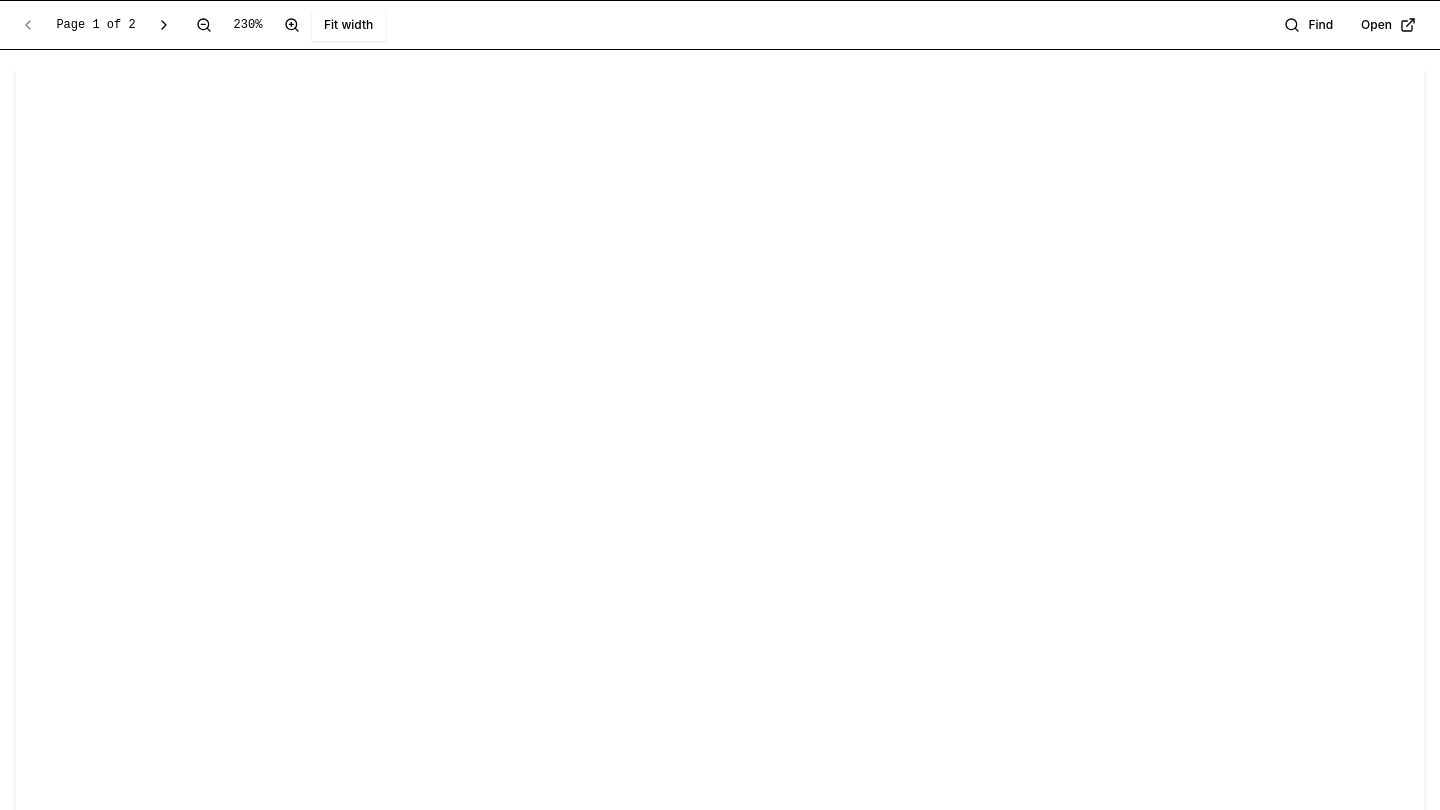
Test: finding text › counts every hit in the document and moves to the page carrying it
Expected: the text "Page 1 of 2" is shown, [56,18,136,32]
Click the button "Find" at (1309, 25), box [1272,9,1345,41]
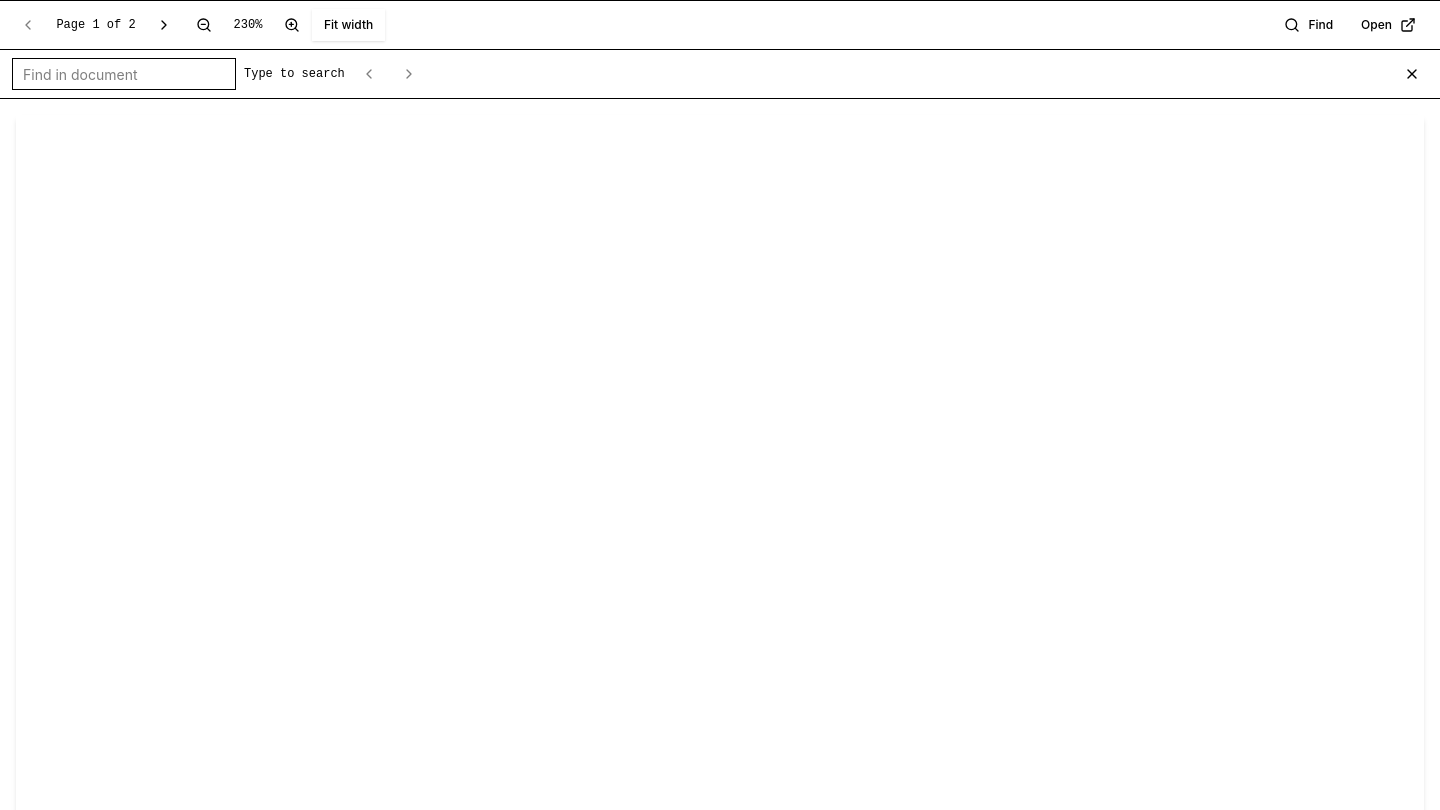
Type "consumed" into the search field at (124, 74), box [12,58,236,90]
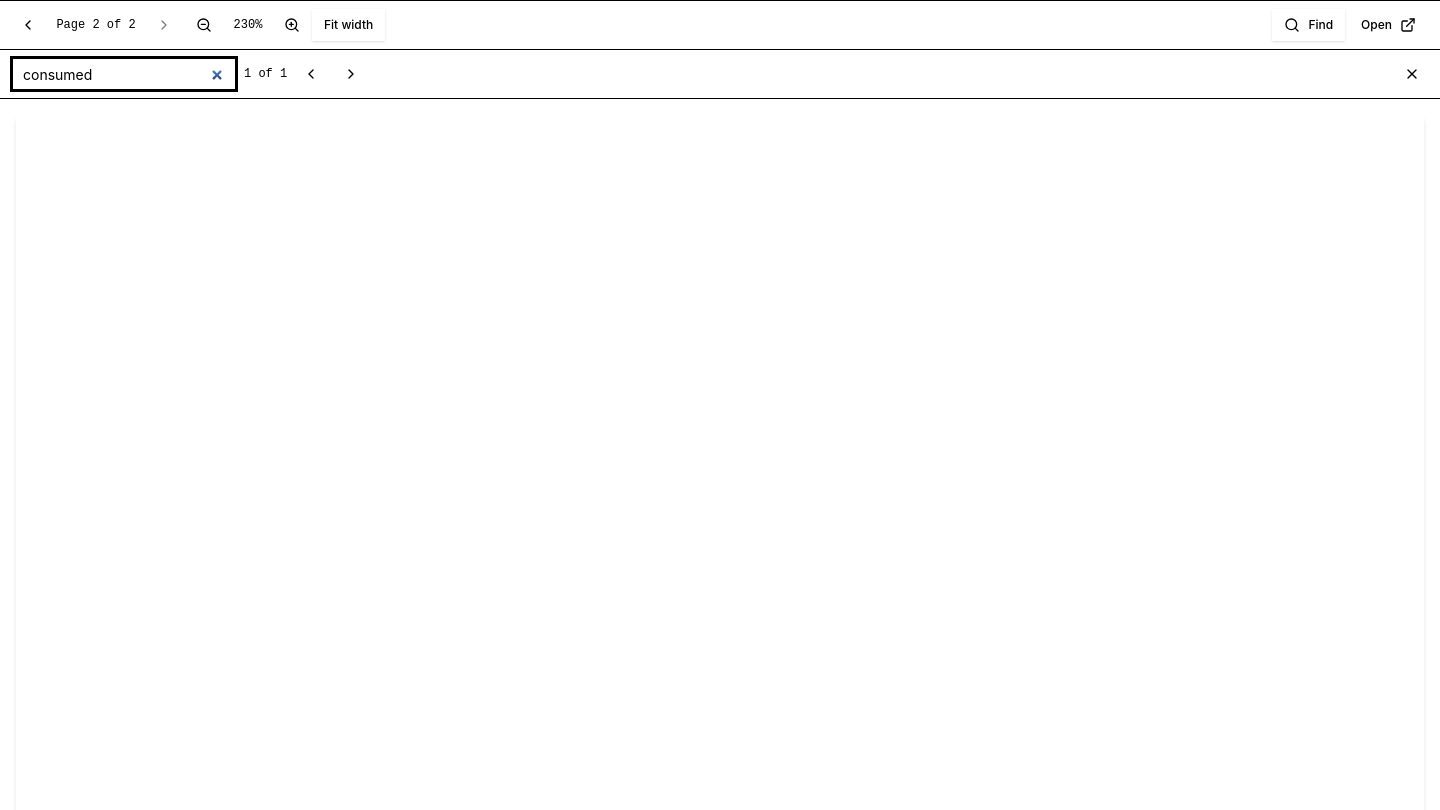
Expected: the text "1 of 1" is shown, [244,66,287,82]
Expected: the text "Page 2 of 2" is shown, [56,18,136,32]
